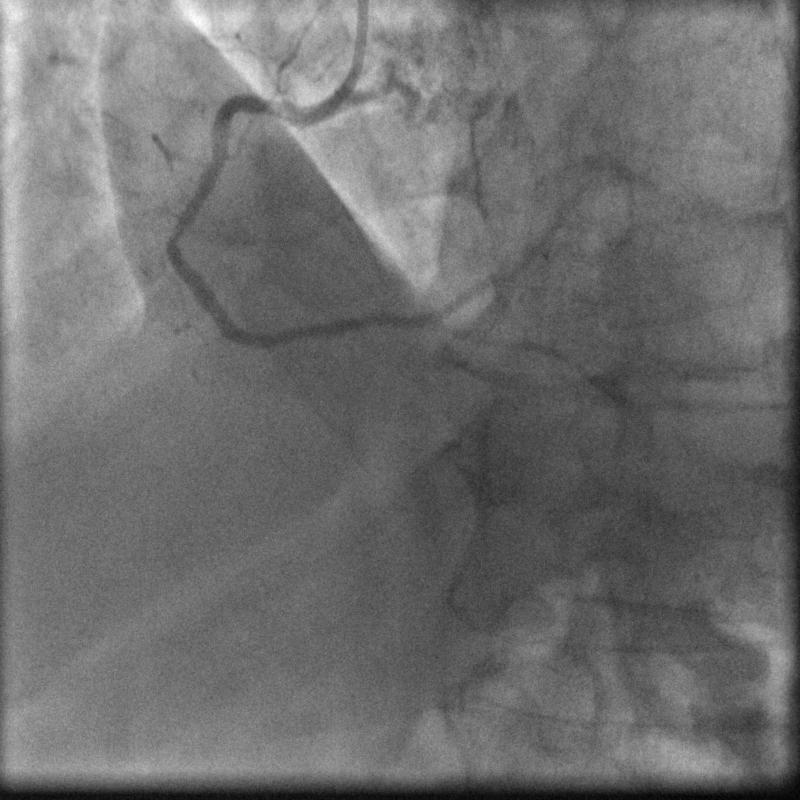Stenosis: (165, 220, 186, 242)
